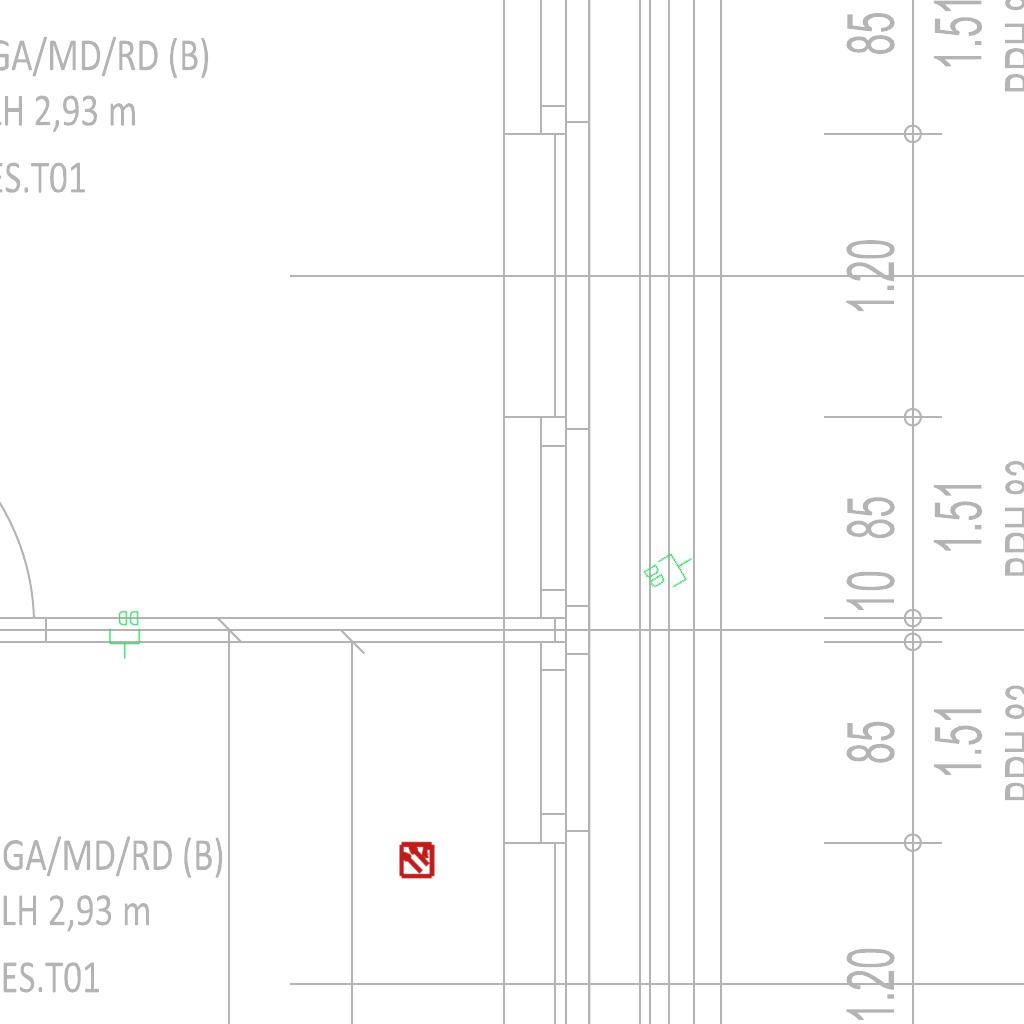Datenanschluss_zweifach: (639, 543, 702, 599), (108, 609, 142, 660)
OT_Multisensormelder_(Kombination_RMO_WMD): (389, 831, 445, 887)
